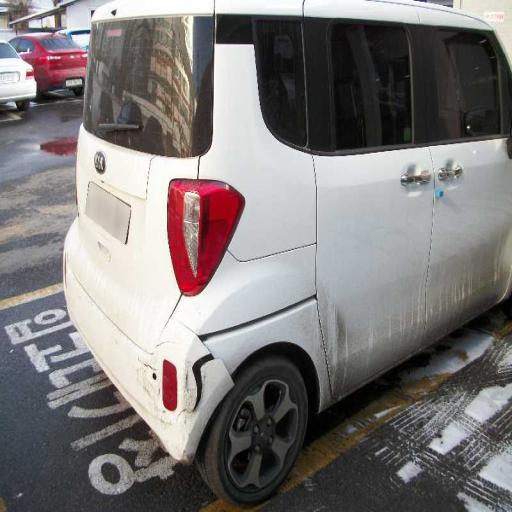broken: (140, 316, 256, 491)
